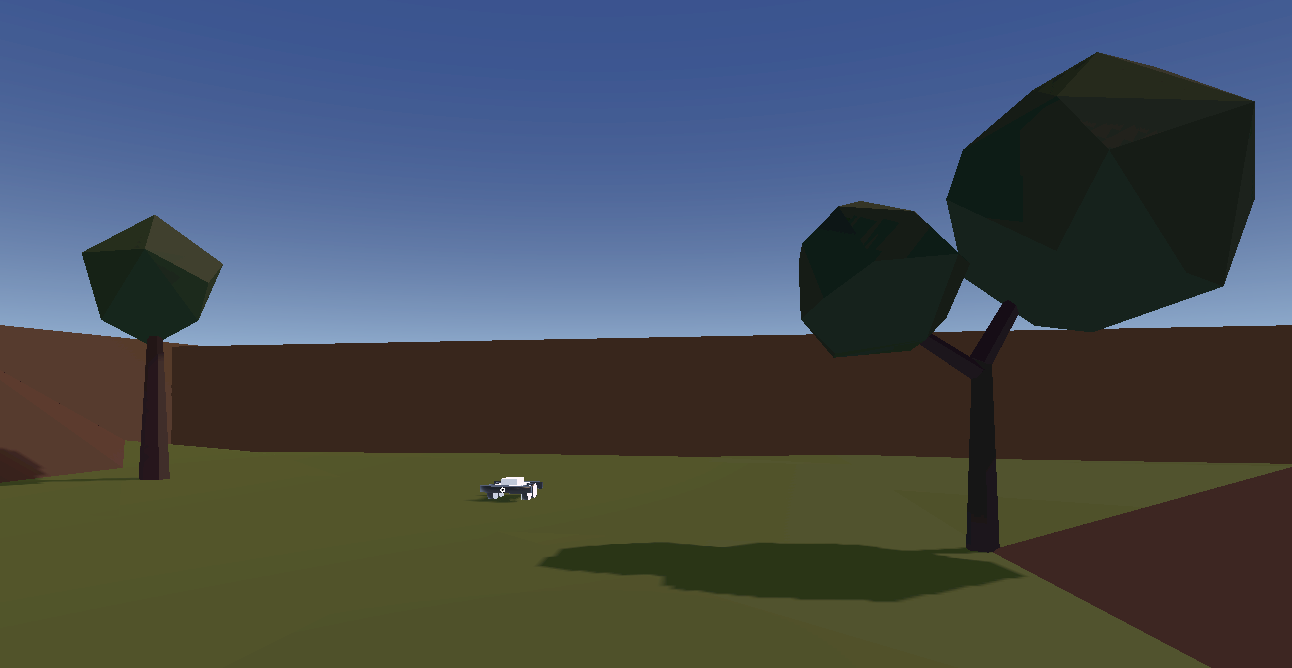tree: (796, 52, 1254, 542), (83, 215, 226, 484)
